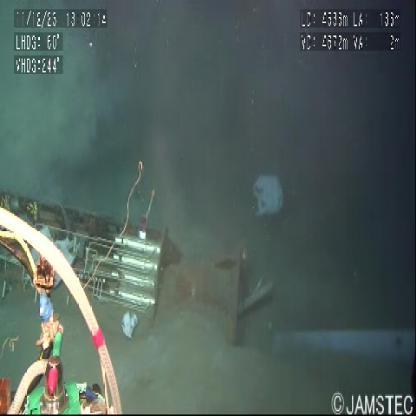Rác: (253, 174, 285, 217)
